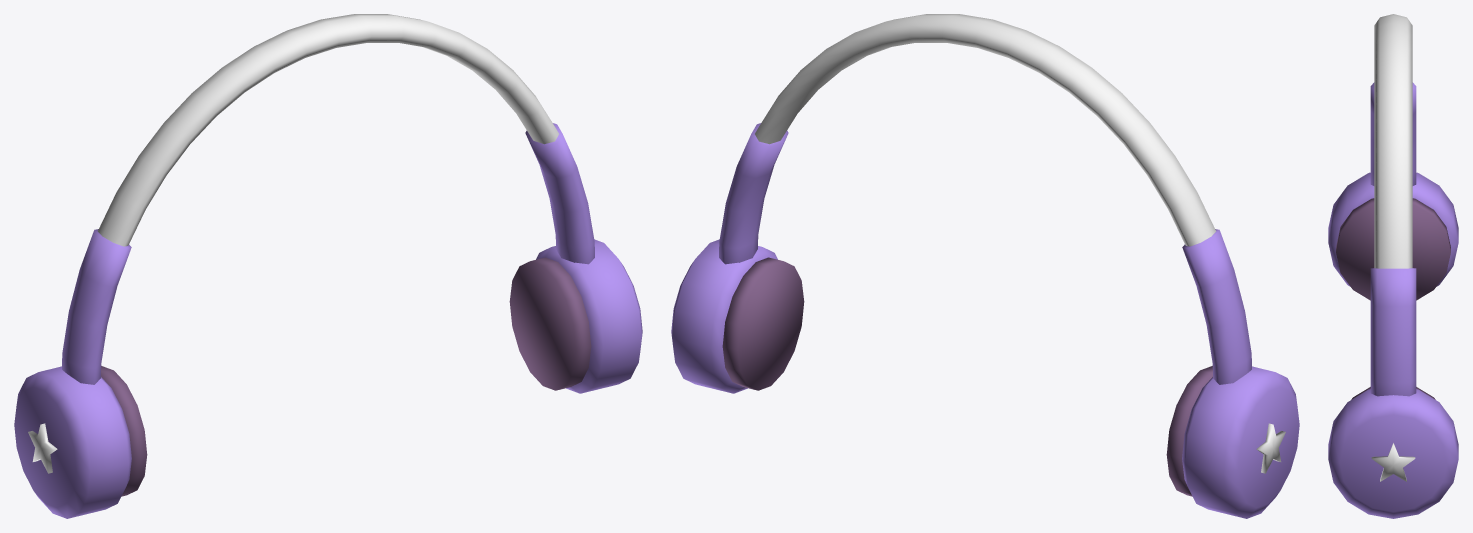
File: head_phone.glb
3 views of the same model, side by side, from view 1: azimuth 30°, elevation 25°; view 2: azimuth 150°, elevation 25°; view 3: azimuth 270°, elevation 25° (orthographic). The views are drawn at different scales.
Visible parts, largest first — view 1: head_phone_q; view 2: head_phone_q; view 3: head_phone_q.
Part boxes in pixels (x1,y1,x2,y2): head_phone_q: (14,14,642,518); head_phone_q: (671,14,1299,518); head_phone_q: (1328,14,1458,518).
Bounding box in the file's own units: 3.01 × 2.12 × 0.68.
